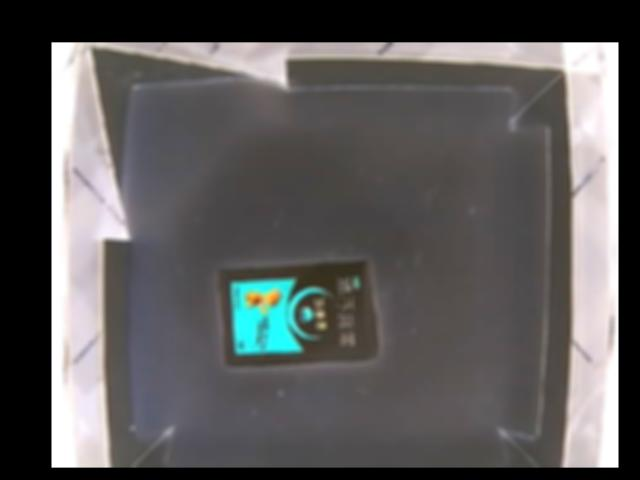Medicine: (219, 260, 383, 368)
